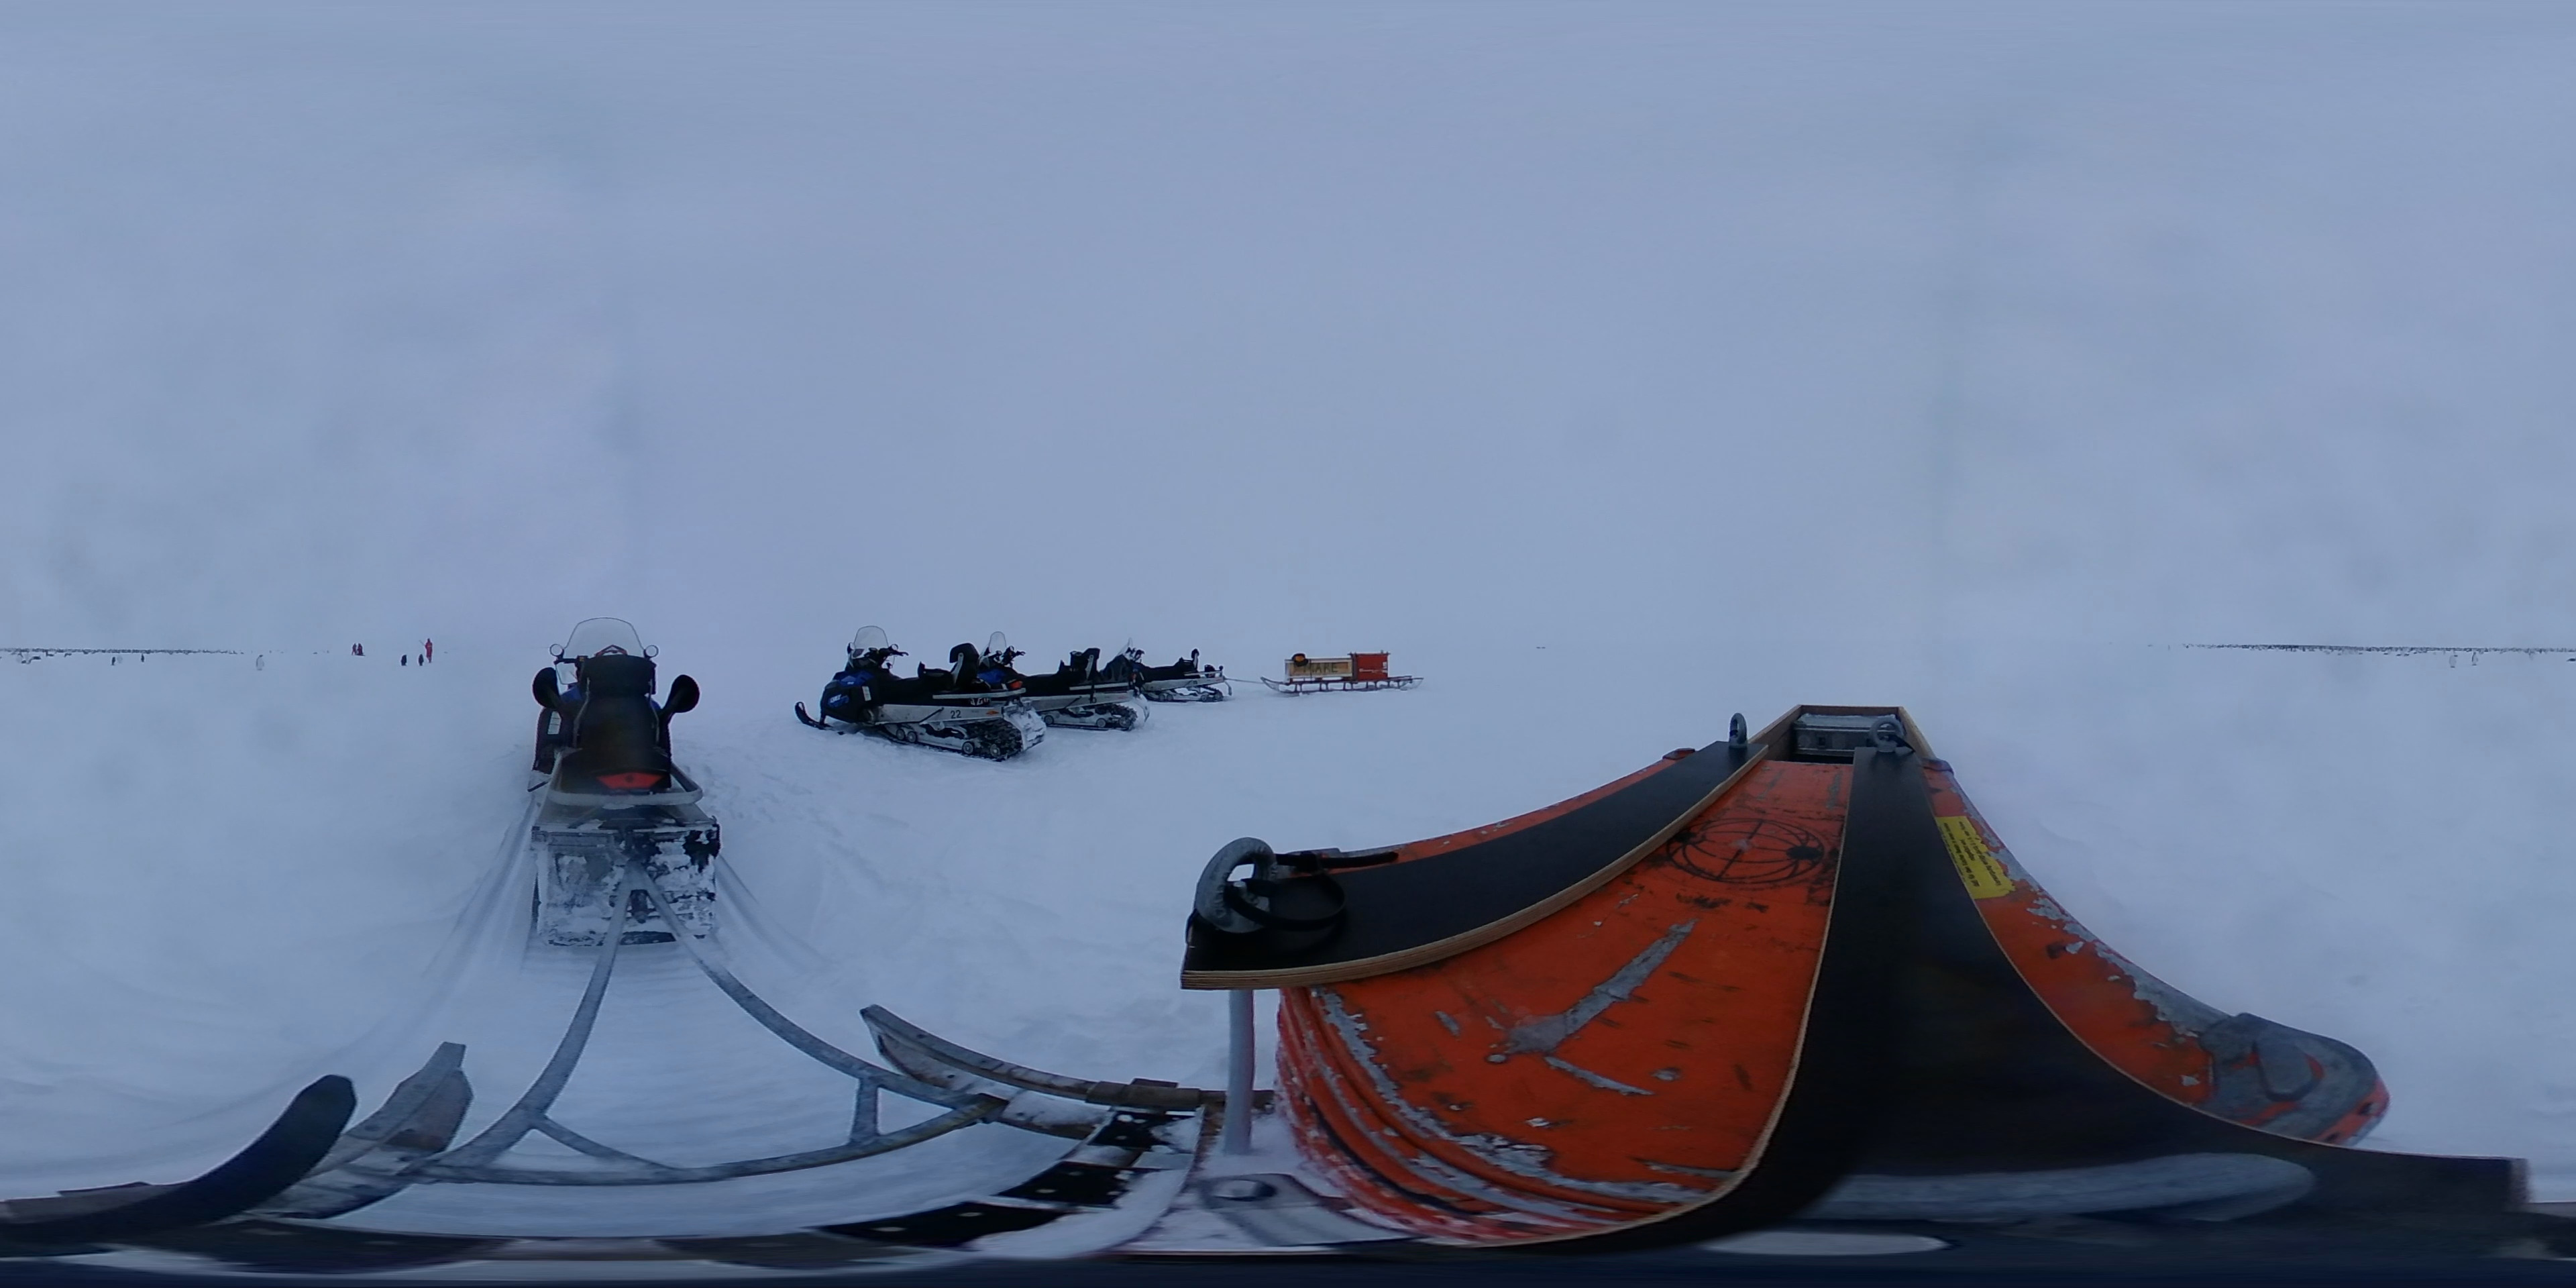adult_standing_penguin: (253, 652, 266, 674), (347, 639, 358, 659), (414, 651, 427, 667), (399, 651, 411, 669)
researcher: (422, 637, 434, 664)
